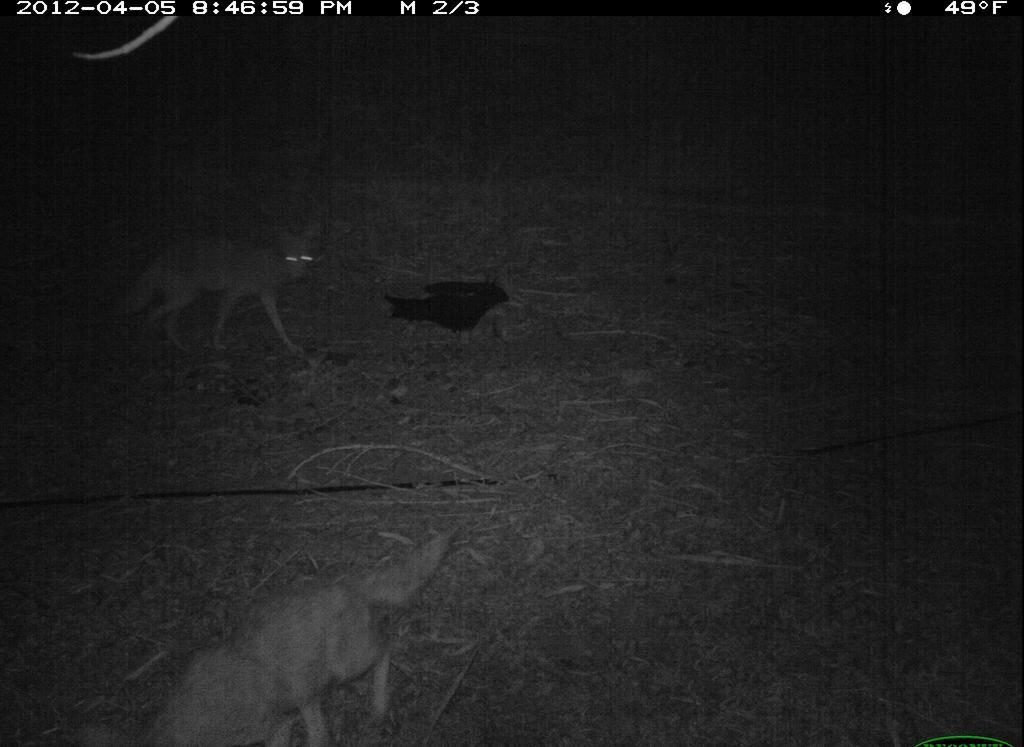coyote: (131, 523, 478, 747), (109, 214, 338, 369)
